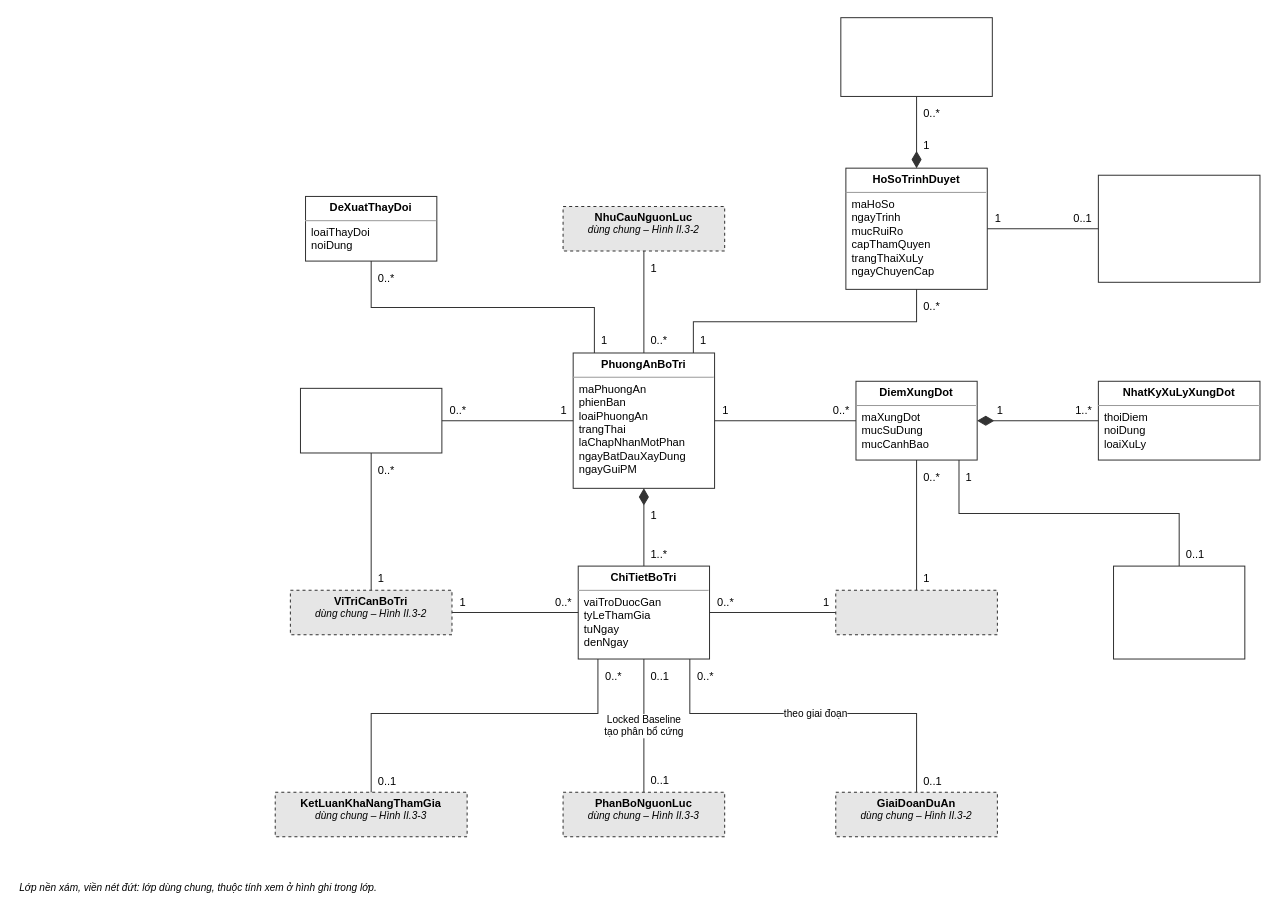
The diagram is 1278 pixels wide and 923 high, and some of its shapes have lost their labels. The centre of each missing label's shape, as x and y in pixels:
"NguonLuc dùng chung – Hình II.3-2" goes at [916,612].
"PhanXuXungDot ngayChuyenCap lyDoBeTac capPhanXu noiDungQuyetDinh" goes at [1179,612].
"QuyetDinhPheDuyet loaiQuyetDinh lyDo dieuKienApDung nguoiQuyetDinh thoiDiem" goes at [1178,228].
"RuiRoViTri loaiRuiRo bienPhapGiamThieu" goes at [370,420].
"YeuCauGiaiTrinh noiDungCanLamRo ngayYeuCau trangThai" goes at [916,56].
